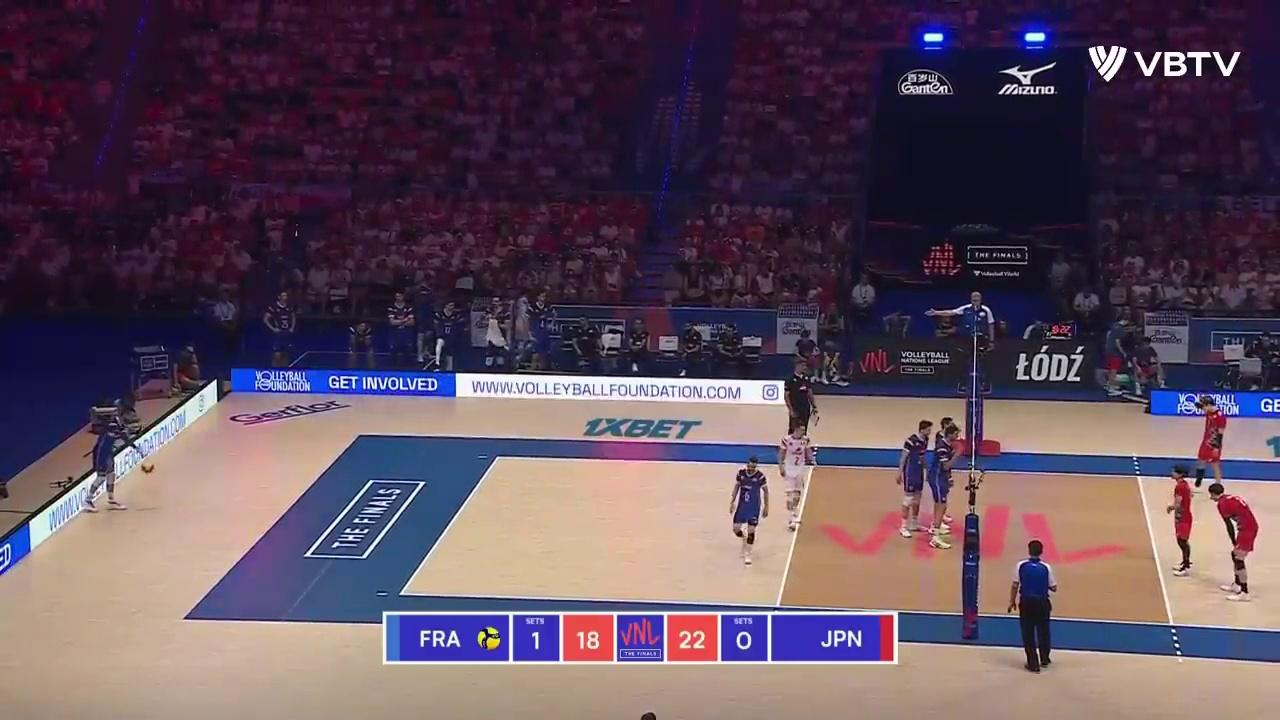ball: (141, 462, 155, 472)
